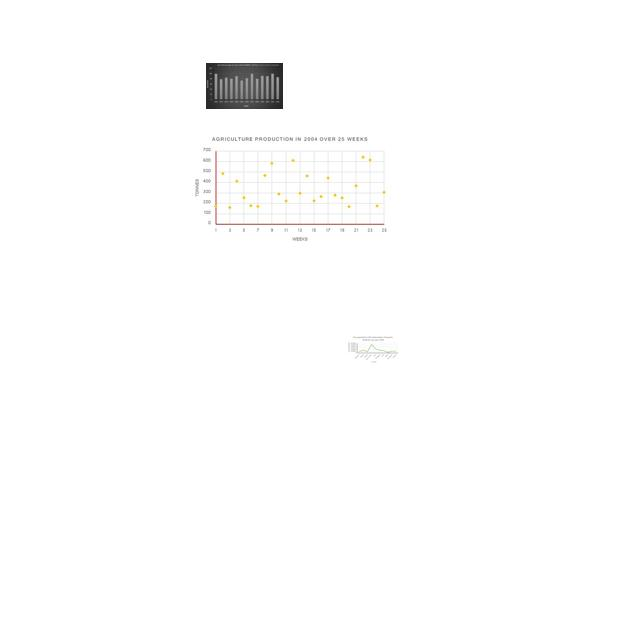Graph: (192, 134, 391, 246), (206, 63, 283, 109), (347, 335, 399, 364)
